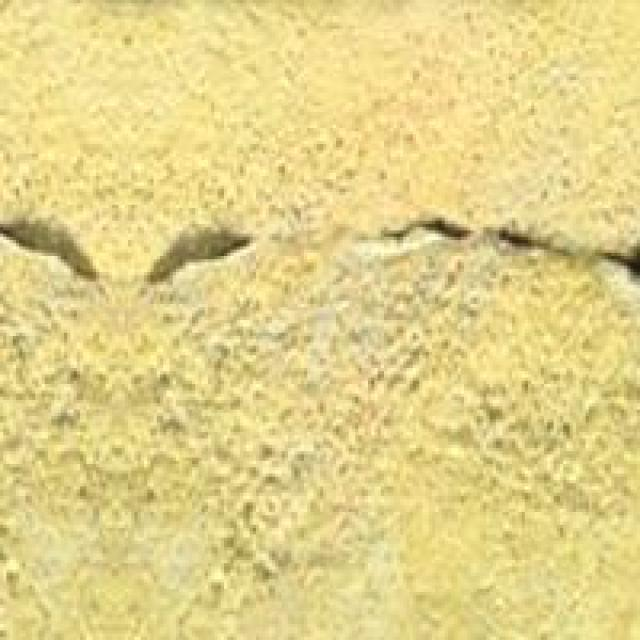SurfaceCrack: (370, 168, 640, 316), (0, 200, 252, 300)
